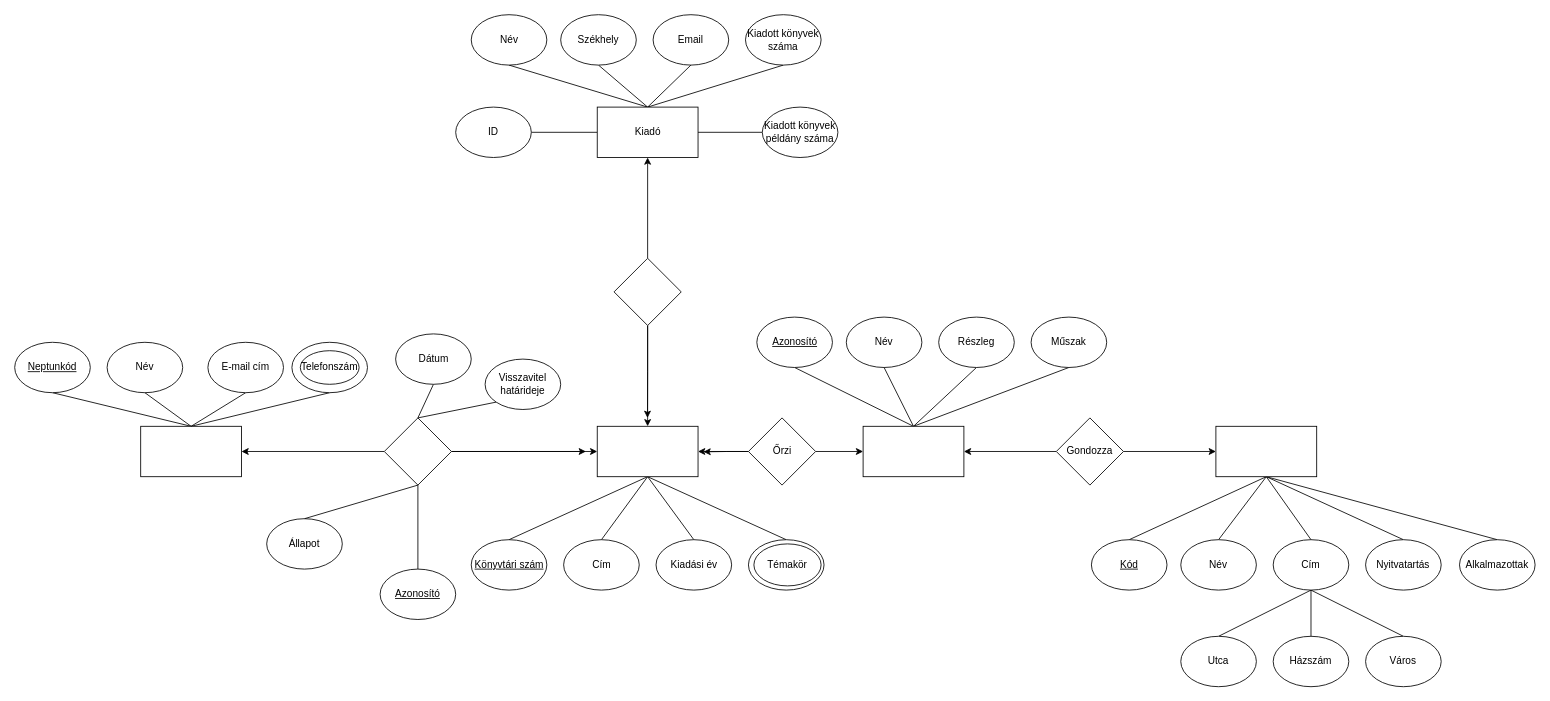
Some shapes in this 1550 by 701 pixel diagram are drawn without their labels. The box of each missing label's shape, as (x1, y1, x2, y2) in pixels:
Hallgató: (140, 425, 242, 477)
Kiadta: (613, 257, 681, 326)
Kölcsönzés: (383, 417, 452, 485)
Könyv: (596, 425, 698, 477)
Könyvtár: (1215, 425, 1317, 477)
Könyvtáros: (862, 425, 964, 477)
